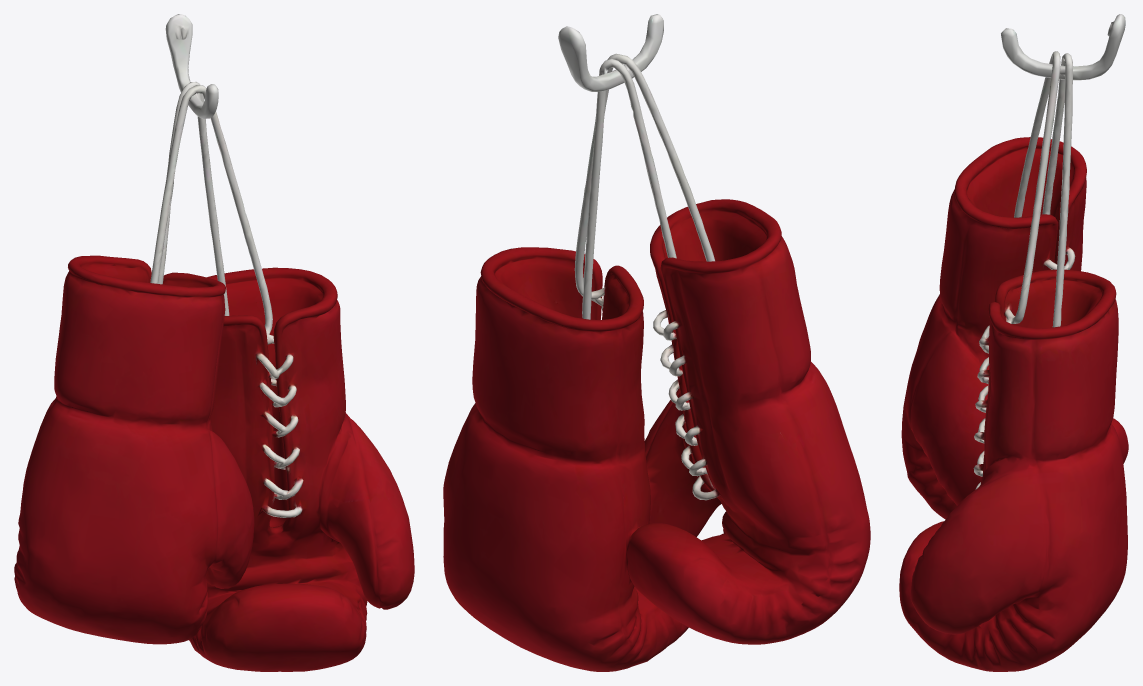
The model's file is 13-luvas.glb.
The picture shows the model from 3 angles, left to right: view 1: azimuth 30°, elevation 25°; view 2: azimuth 150°, elevation 25°; view 3: azimuth 270°, elevation 25°; orthographic projection. The views are drawn at different scales.
Visible parts, largest first — view 1: tripo_node_6197c937-b9f4-48f8-be8d-ae33f2903325; view 2: tripo_node_6197c937-b9f4-48f8-be8d-ae33f2903325; view 3: tripo_node_6197c937-b9f4-48f8-be8d-ae33f2903325.
Boxes of the visible parts, x1,y1,x2,y2 form: tripo_node_6197c937-b9f4-48f8-be8d-ae33f2903325: (14, 14, 414, 671); tripo_node_6197c937-b9f4-48f8-be8d-ae33f2903325: (443, 14, 870, 671); tripo_node_6197c937-b9f4-48f8-be8d-ae33f2903325: (899, 14, 1128, 671).
Size of the model in its own units: 0.6206 by 1 by 0.3379.
1 material, 1 textured.
